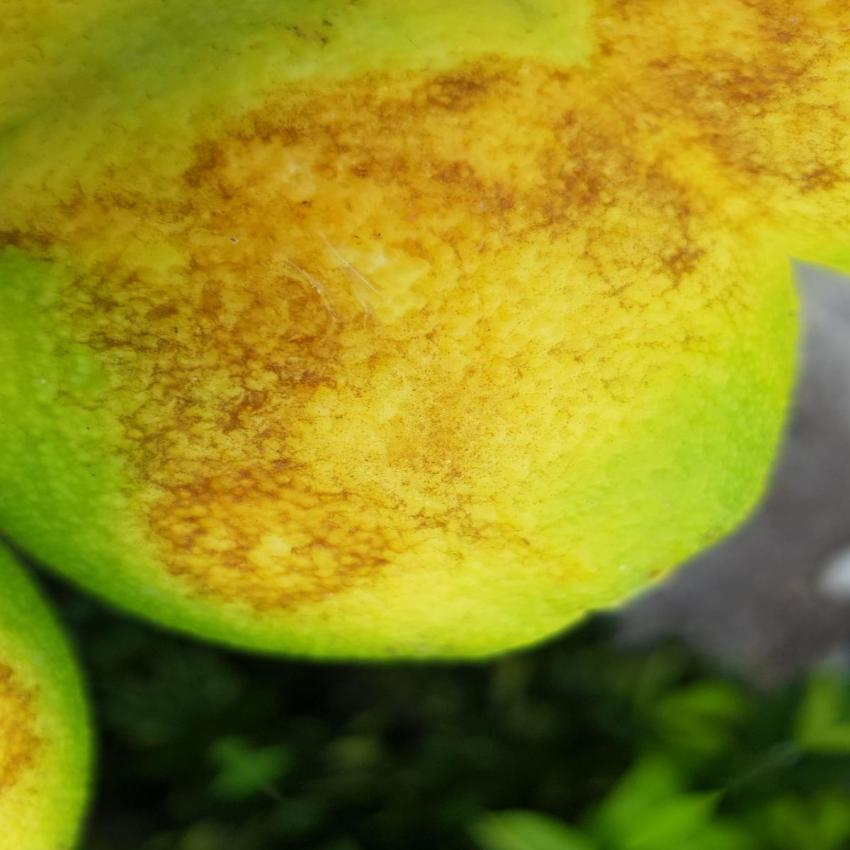Mal estado: (0, 0, 823, 682)
